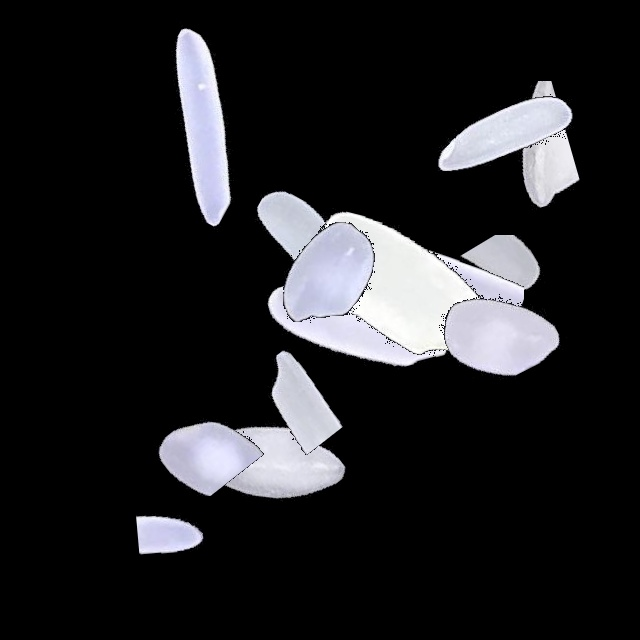Broken: (353, 159, 524, 409), (58, 348, 308, 496), (208, 258, 353, 508), (376, 81, 626, 215), (385, 235, 635, 359), (64, 472, 314, 576), (324, 422, 574, 501)
Full: (147, 340, 397, 590), (76, 1, 326, 251), (181, 122, 431, 372), (379, 10, 629, 260), (230, 199, 480, 449), (283, 165, 533, 415), (204, 145, 454, 395), (374, 206, 624, 456)
